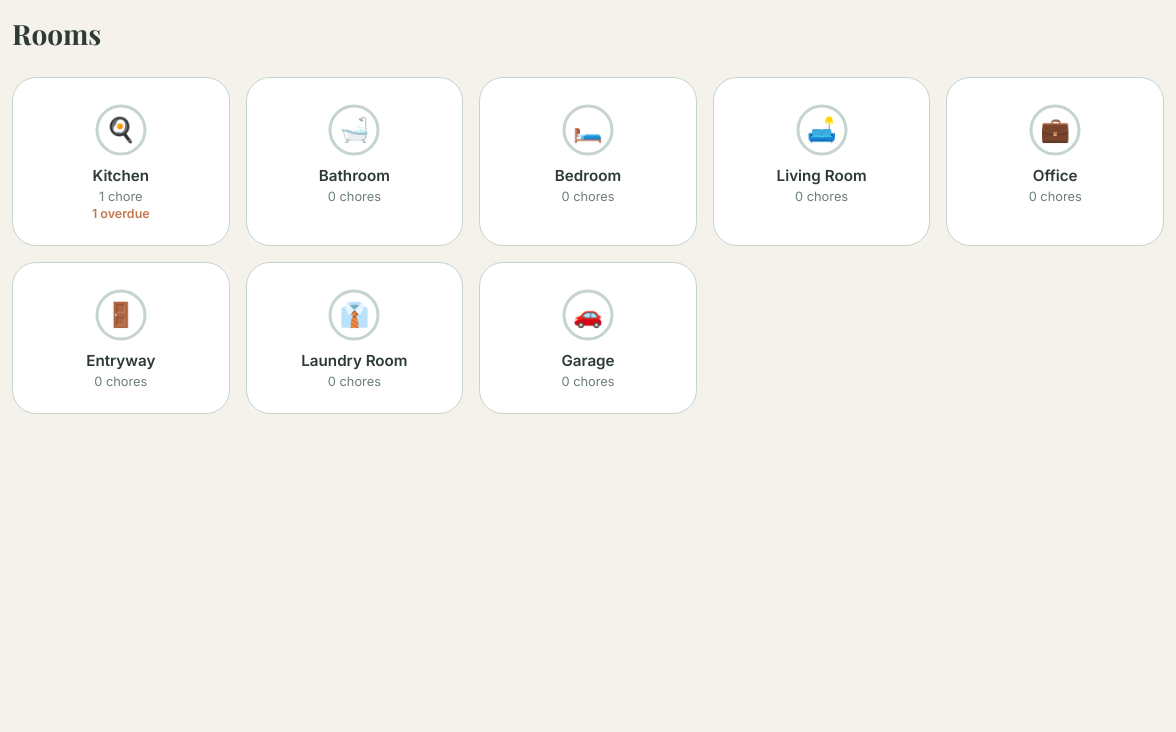
Test: Rooms › room selection › shows chores for the selected room
Check: the text "1 chore" is shown, box [99, 189, 142, 204]
Click the button "🍳 Kitchen 1 chore 1 overdue" at (121, 161), box [12, 77, 230, 246]
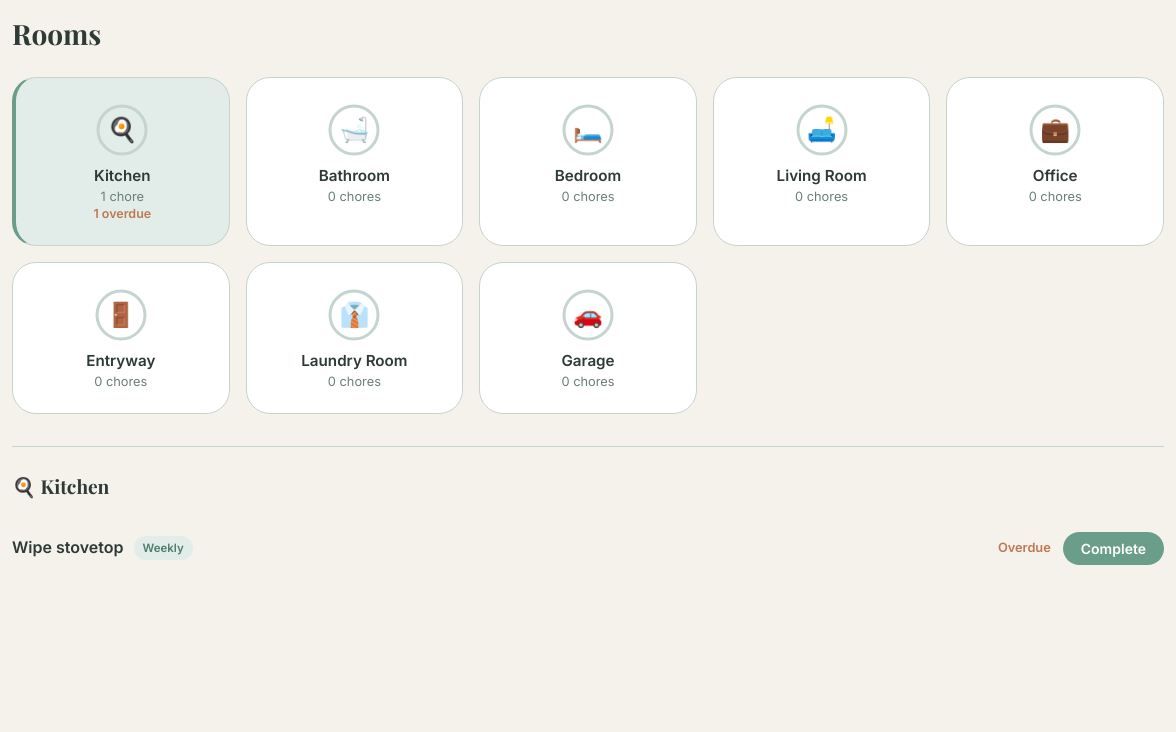
Check: the text "Wipe stovetop" is shown, box [12, 535, 124, 561]
